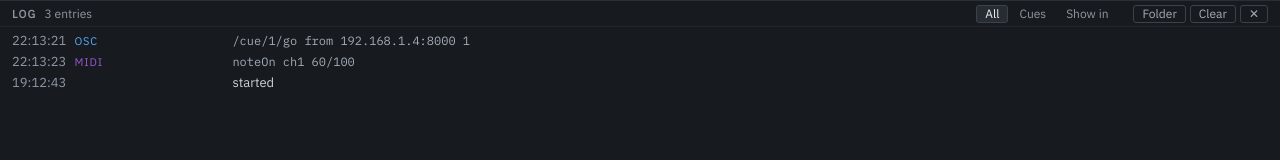
Test case: LogPanel › clears both halves at once
This screenshot has width=1280, height=160.
Click the button with class "log-btn" showing "Clear". click: {"x": 1213, "y": 14}
box: [1190,4,1236,22]
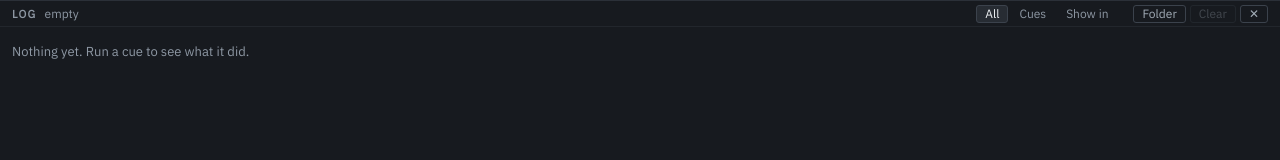
Result: the text with class "log-count" reads "empty" at [45,6,79,21]
